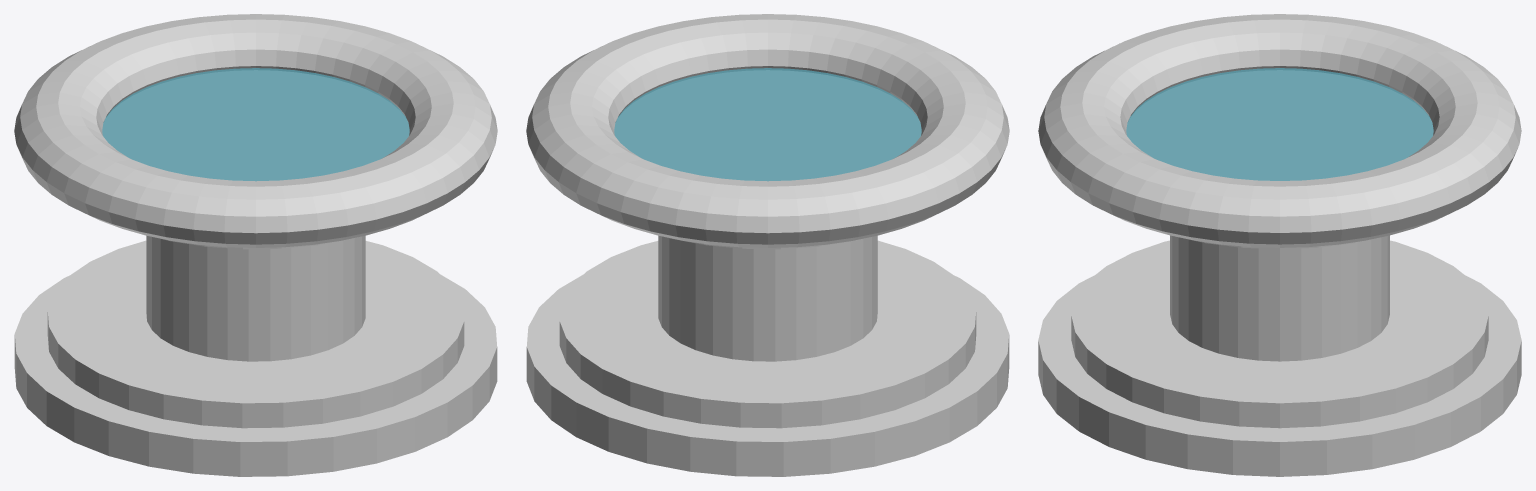
3 views of the same model, side by side, from view 1: azimuth 30°, elevation 25°; view 2: azimuth 150°, elevation 25°; view 3: azimuth 270°, elevation 25° (orthographic).
Parts seen in each view (by area): view 1: Bowl, Mid_Ring, Base_Bottom, Water_Pool, Bowl_Base, Pedestal; view 2: Bowl, Mid_Ring, Base_Bottom, Water_Pool, Bowl_Base, Pedestal; view 3: Bowl, Mid_Ring, Base_Bottom, Water_Pool, Bowl_Base, Pedestal.
Part boxes in pixels (x1,y1,x2,y2): Bowl: [14, 14, 497, 247]; Mid_Ring: [47, 240, 464, 428]; Base_Bottom: [14, 274, 497, 476]; Water_Pool: [102, 68, 409, 181]; Bowl_Base: [103, 70, 408, 249]; Pedestal: [146, 235, 365, 361]; Bowl: [526, 14, 1009, 247]; Mid_Ring: [559, 240, 976, 428]; Base_Bottom: [526, 274, 1009, 476]; Water_Pool: [614, 68, 921, 181]; Bowl_Base: [615, 70, 920, 249]; Pedestal: [658, 235, 877, 361]; Bowl: [1038, 14, 1521, 247]; Mid_Ring: [1071, 240, 1488, 428]; Base_Bottom: [1038, 275, 1521, 476]; Water_Pool: [1126, 68, 1433, 180]; Bowl_Base: [1127, 70, 1432, 249]; Pedestal: [1170, 235, 1389, 361].
Size of the model in its own units: 4.4 by 2.73 by 4.4.
